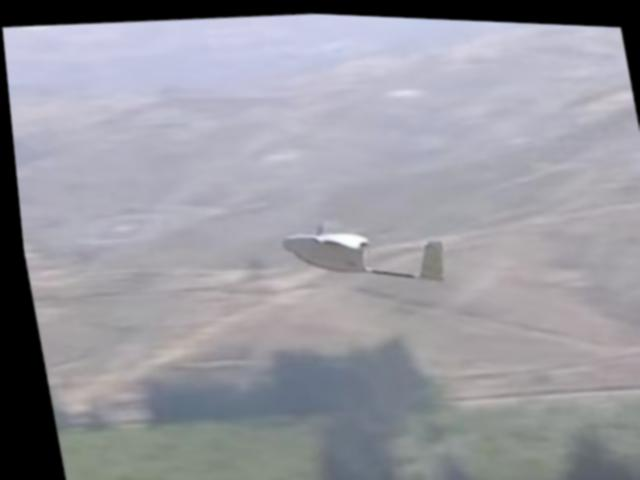uav: (269, 208, 453, 303)
